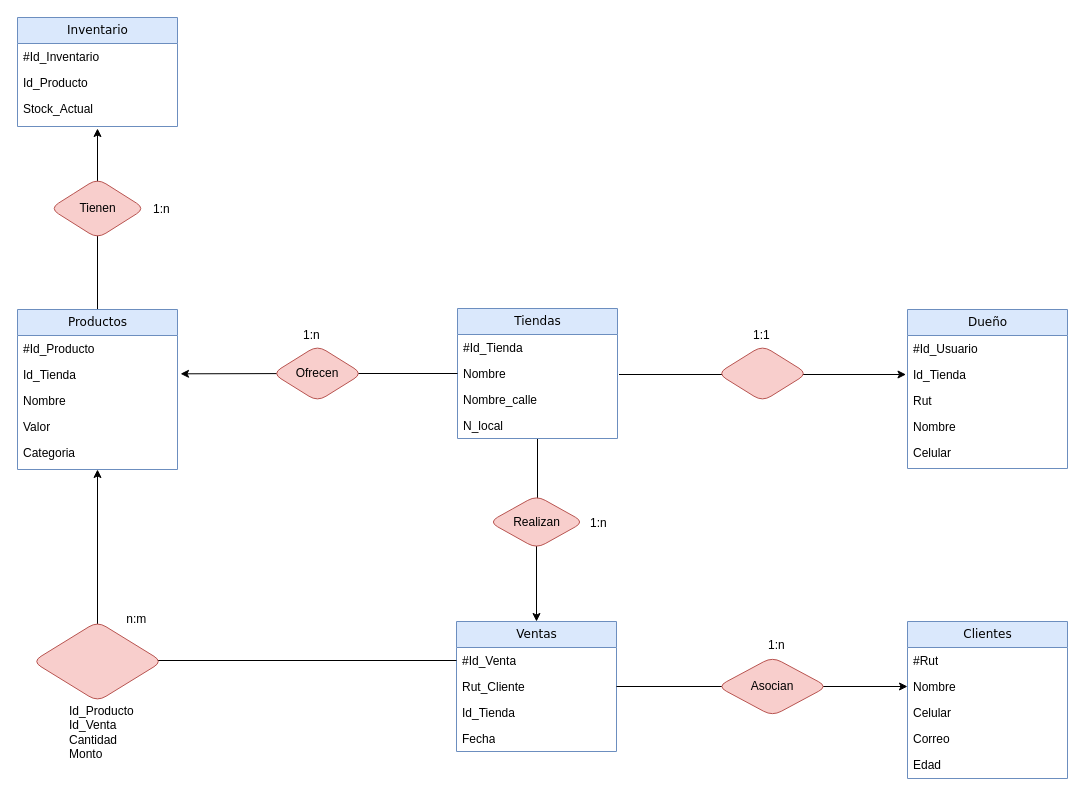
Some shapes in this 1085 by 798 pixel diagram are drawn without their labels. Each missing label, with the centre of its shape:
"Administran" belongs at point 762,373.
"Compone" belongs at point 97,661.
